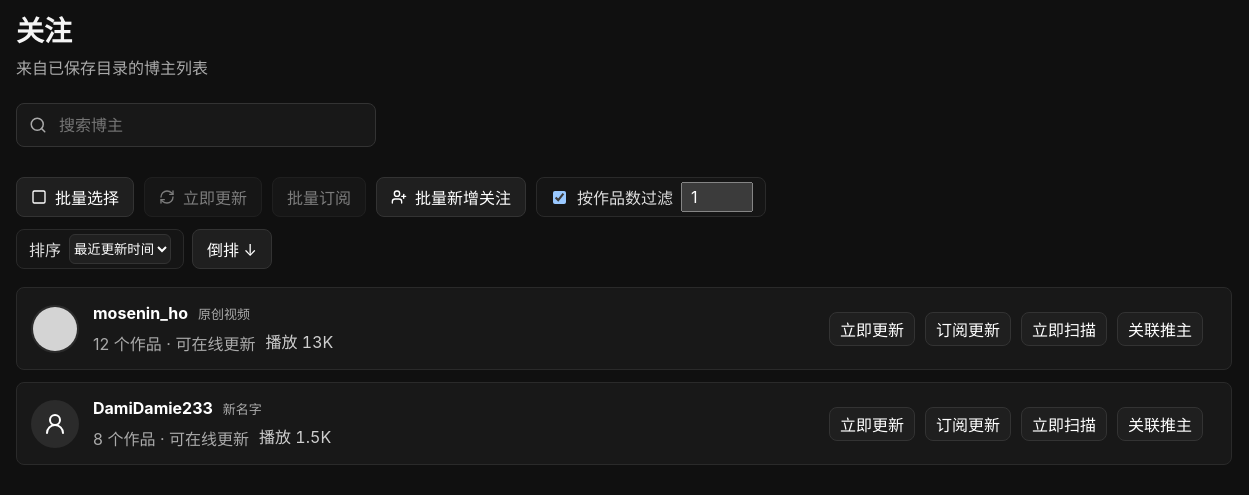
Test: filters creators by name and shows empty match state
Expected: the text "mosenin_ho" is shown, [93,303,188,323]
Expected: the text "DamiDamie233" is shown, [93,398,213,418]
In the field labelled "搜索博主": (210, 125) [57,105,363,145], type "dami"
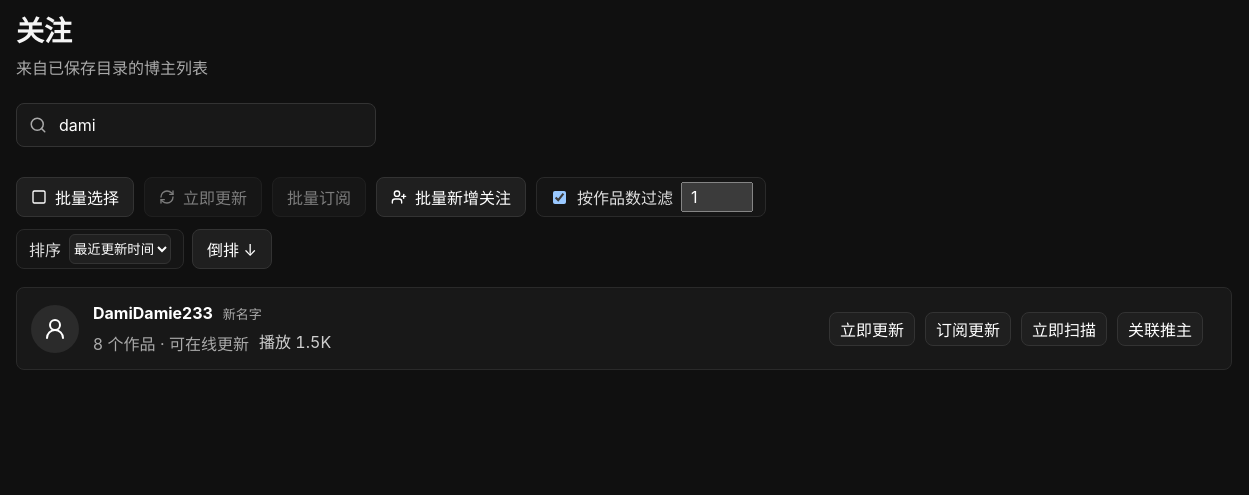
Expected: the text "DamiDamie233" is shown, [93,303,213,323]
Now the link "mosenin_ho" is gone
Replace the text in the field named "搜索博主" with "unknown": (210, 125) [57,105,363,145]
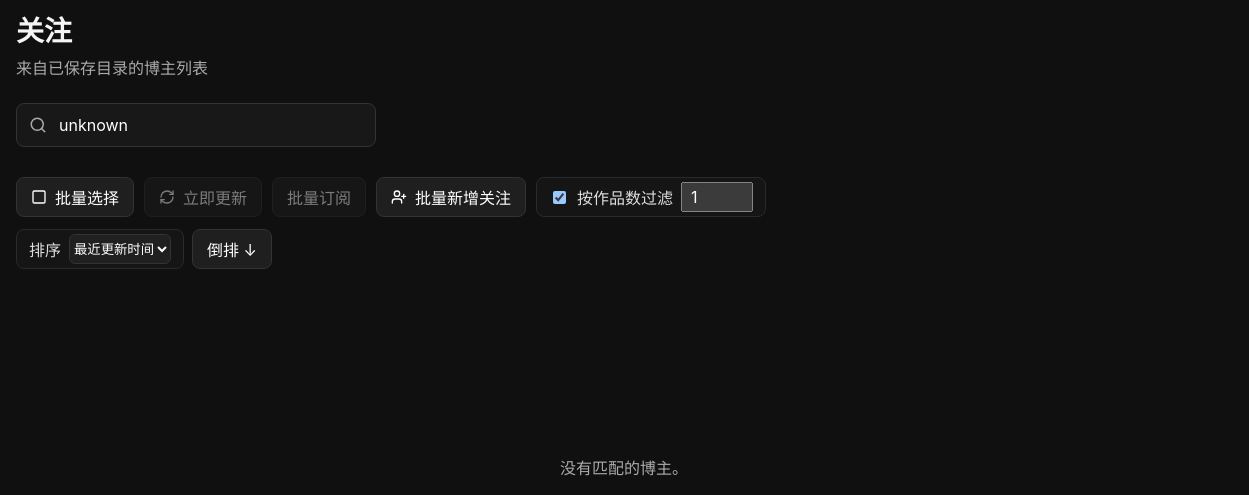
Now the text "没有匹配的博主。" is shown, box [560,458,688,478]
